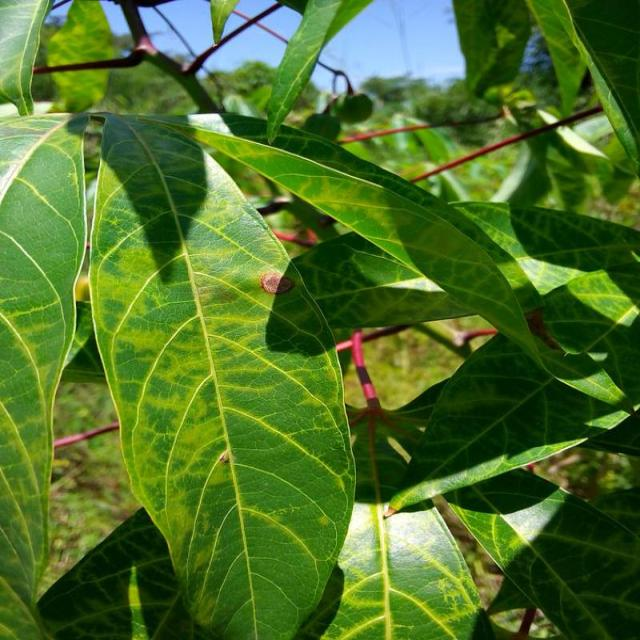cassava leaf: (88, 111, 358, 638)
